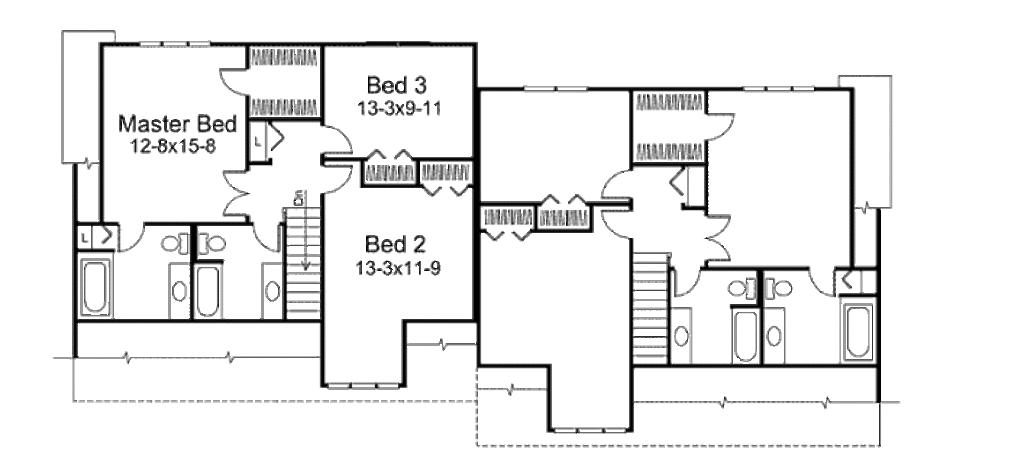door: (217, 167, 255, 224), (700, 215, 732, 262), (319, 122, 359, 158), (214, 66, 256, 100), (669, 262, 706, 299), (322, 158, 355, 197), (701, 109, 736, 145), (598, 167, 634, 199), (599, 208, 633, 241), (116, 221, 150, 253), (806, 266, 835, 301), (251, 223, 280, 255)
large_sink: (722, 268, 758, 303), (194, 229, 235, 257), (765, 270, 795, 301), (159, 229, 189, 257)
small_sink: (669, 306, 697, 366), (161, 262, 189, 322), (761, 303, 787, 366), (262, 260, 280, 318)
stairs: (282, 204, 321, 327), (632, 249, 672, 367)
tub: (76, 250, 114, 324), (839, 299, 878, 366), (731, 302, 761, 362), (195, 260, 225, 318)
window: (323, 379, 404, 395), (549, 425, 628, 437), (521, 83, 591, 96), (742, 84, 816, 95), (134, 40, 212, 50)
